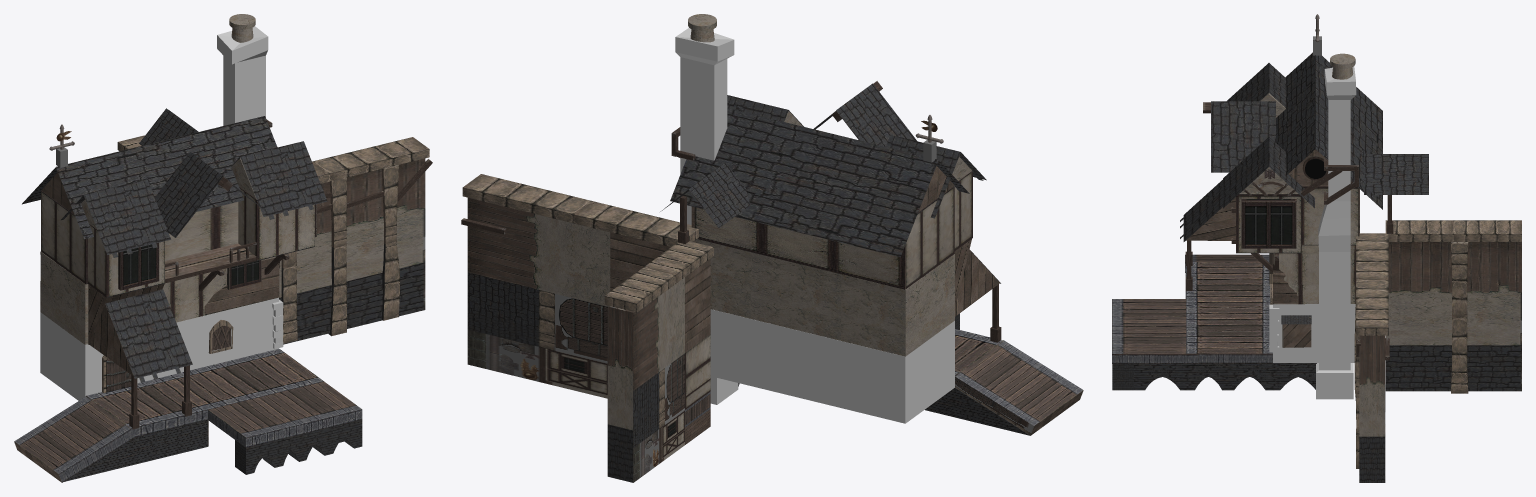
The model's file is CasaA2.fbx.
3 renders of one model, left to right at view 1: azimuth 30°, elevation 25°; view 2: azimuth 150°, elevation 25°; view 3: azimuth 270°, elevation 25°, orthographic. The views are drawn at different scales.
Parts seen in each view (by area): view 1: Cube.044; view 2: Cube.044; view 3: Cube.044.
Boxes of the visible parts, left/top/right/bottom form: Cube.044: left=14, top=14, right=432, bottom=482; Cube.044: left=461, top=14, right=1083, bottom=482; Cube.044: left=1112, top=14, right=1521, bottom=482.
Size of the model in its own units: 1193 by 854 by 943.
